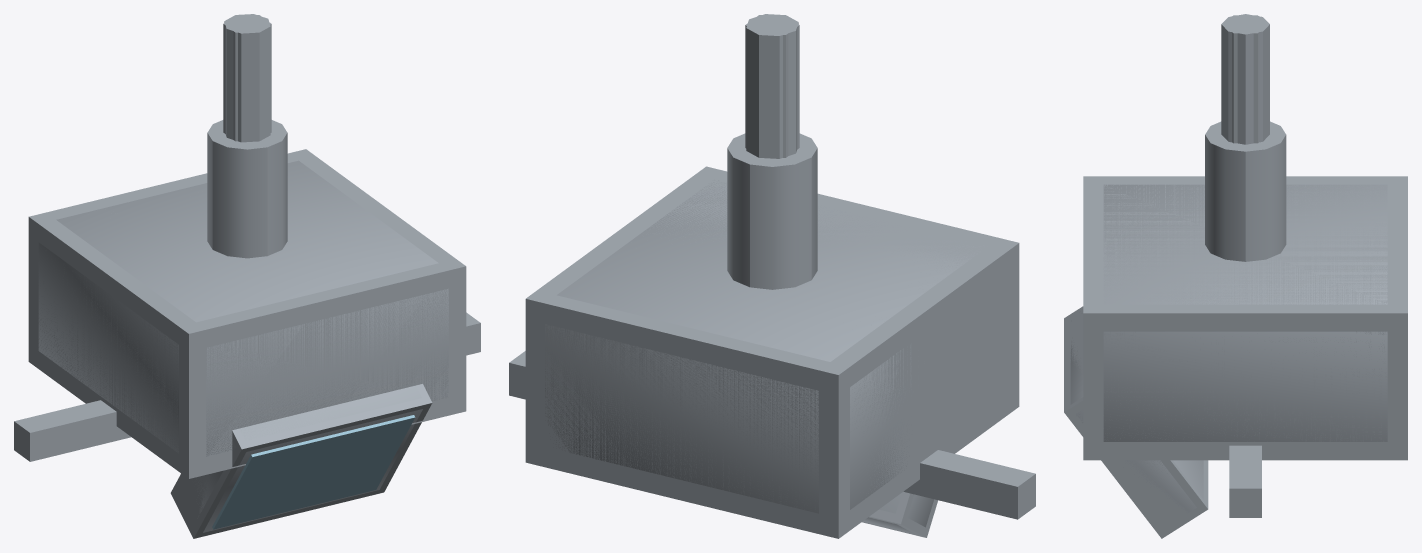
The model's file is ENV_FLOODLIGHT_A_v001.glb.
3 views of the same model, side by side, from view 1: azimuth 30°, elevation 25°; view 2: azimuth 150°, elevation 25°; view 3: azimuth 270°, elevation 25° (orthographic). The views are drawn at different scales.
Visible parts, largest first — view 1: ENV_FLOODLIGHT_A_BASE, ENV_FLOODLIGHT_A_BASE_LOW, ENV_FLOODLIGHT_A_HEAD, ENV_FLOODLIGHT_A_HEAD_LOW, ENV_FLOODLIGHT_A_MAST, ENV_FLOODLIGHT_A_BAR, ENV_FLOODLIGHT_A_MAST_LOW; view 2: ENV_FLOODLIGHT_A_BASE, ENV_FLOODLIGHT_A_BASE_LOW, ENV_FLOODLIGHT_A_MAST, ENV_FLOODLIGHT_A_BAR, ENV_FLOODLIGHT_A_MAST_LOW, ENV_FLOODLIGHT_A_HEAD_LOW, ENV_FLOODLIGHT_A_HEAD; view 3: ENV_FLOODLIGHT_A_BASE, ENV_FLOODLIGHT_A_BASE_LOW, ENV_FLOODLIGHT_A_HEAD_LOW, ENV_FLOODLIGHT_A_MAST, ENV_FLOODLIGHT_A_HEAD, ENV_FLOODLIGHT_A_BAR, ENV_FLOODLIGHT_A_MAST_LOW.
Part boxes in pixels (x1,y1,x2,y2): ENV_FLOODLIGHT_A_BASE: (38,120,448,456); ENV_FLOODLIGHT_A_BASE_LOW: (28,121,466,478); ENV_FLOODLIGHT_A_HEAD: (195,385,422,532); ENV_FLOODLIGHT_A_HEAD_LOW: (170,384,432,538); ENV_FLOODLIGHT_A_MAST: (224,14,270,142); ENV_FLOODLIGHT_A_BAR: (14,312,480,461); ENV_FLOODLIGHT_A_MAST_LOW: (223,15,271,141); ENV_FLOODLIGHT_A_BASE: (545,133,983,513); ENV_FLOODLIGHT_A_BASE_LOW: (525,136,1019,538); ENV_FLOODLIGHT_A_MAST: (746,14,798,158); ENV_FLOODLIGHT_A_BAR: (509,351,1035,519); ENV_FLOODLIGHT_A_MAST_LOW: (745,15,799,157); ENV_FLOODLIGHT_A_HEAD_LOW: (862,491,937,537); ENV_FLOODLIGHT_A_HEAD: (863,493,933,533); ENV_FLOODLIGHT_A_BASE: (1103,121,1387,441); ENV_FLOODLIGHT_A_BASE_LOW: (1083,123,1407,460); ENV_FLOODLIGHT_A_HEAD_LOW: (1064,306,1208,538); ENV_FLOODLIGHT_A_MAST: (1221,14,1269,144); ENV_FLOODLIGHT_A_HEAD: (1070,341,1203,512); ENV_FLOODLIGHT_A_BAR: (1229,445,1261,517); ENV_FLOODLIGHT_A_MAST_LOW: (1222,15,1268,143).
Size of the model in its own units: 1.3 by 1.27 by 0.8478.
